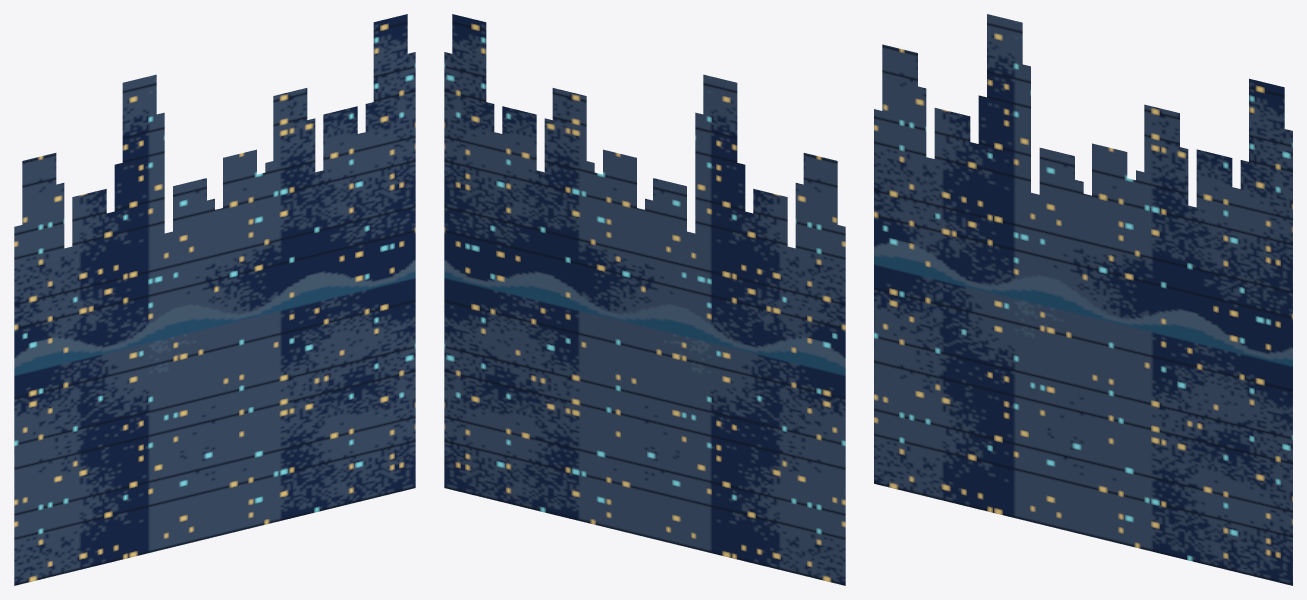
Rendered from cysky.stepped__tile.glb.
3 views of the same model, side by side, from view 1: azimuth 30°, elevation 25°; view 2: azimuth 150°, elevation 25°; view 3: azimuth 330°, elevation 25° (orthographic). The views are drawn at different scales.
Parts seen in each view (by area): view 1: kit_card_skyline; view 2: kit_card_skyline; view 3: kit_card_skyline.
Part boxes in pixels (x1,y1,x2,y2): kit_card_skyline: [14, 14, 415, 585]; kit_card_skyline: [444, 14, 845, 585]; kit_card_skyline: [874, 14, 1292, 585].
Bounding box in the file's own units: 24 × 27.23 × 0.
Materials: 1 (1 with a texture image).
